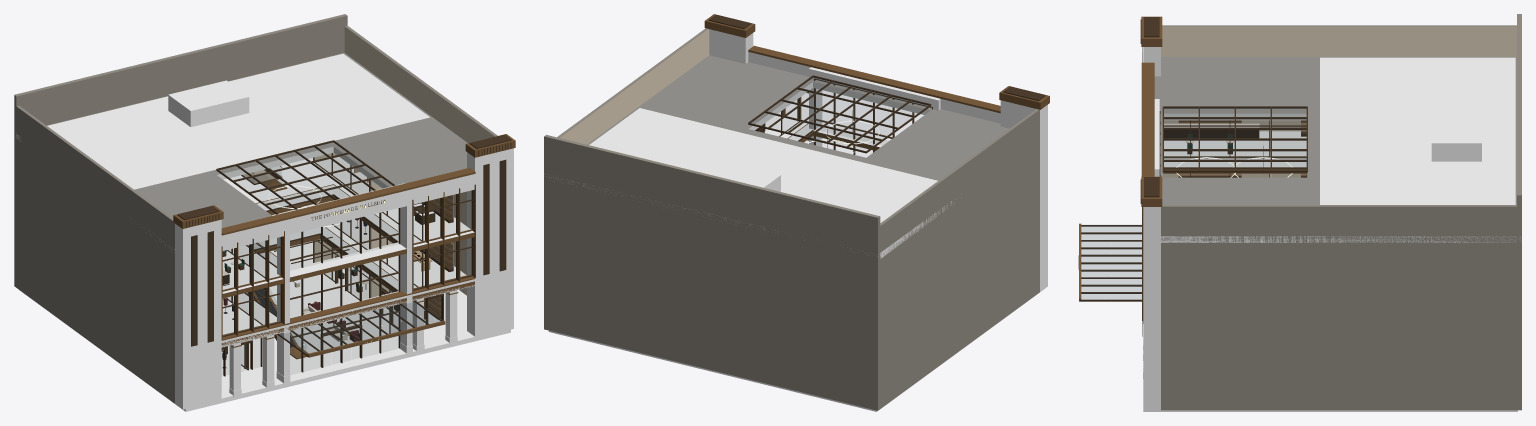
Rendered from the_promenade_galleria_lod1.glb.
The picture shows the model from 3 angles, left to right: view 1: azimuth 30°, elevation 25°; view 2: azimuth 150°, elevation 25°; view 3: azimuth 270°, elevation 25°; orthographic projection. The views are drawn at different scales.
Visible parts, largest first — view 1: B05_LOD1_BUILDING_EXTERIOR_Stone, B05_LOD1_BUILDING_EXTERIOR_Roof, B05_LOD1_BUILDING_EXTERIOR_RearInterface, B05_LOD1_BUILDING_INTERIOR_GroundSlab, B05_LOD1_BUILDING_INTERIOR_L2Slab, B05_LOD1_BUILDING_INTERIOR_L1Slab, B05_LOD1_FACADE_DETAILS_Bronze, B05_LOD1_FACADE_DETAILS_Canopy, B05_LOD1_GLASS_SYSTEM_TowerSlots, B05_LOD1_GLASS_SYSTEM_PortalFrame, B05_LOD1_GLASS_SYSTEM_Skylight, B05_LOD1_GLASS_SYSTEM_Upper-13Frame (+6 smaller); view 2: B05_LOD1_BUILDING_EXTERIOR_Stone, B05_LOD1_BUILDING_EXTERIOR_Roof, B05_LOD1_BUILDING_EXTERIOR_RearInterface, B05_LOD1_FACADE_DETAILS_Bronze, B05_LOD1_GLASS_SYSTEM_Skylight, B05_LOD1_BUILDING_INTERIOR_L2Slab, B05_LOD1_GLASS_SYSTEM_PortalFrame, B05_LOD1_BUILDING_INTERIOR_GroundSlab; view 3: B05_LOD1_BUILDING_EXTERIOR_Stone, B05_LOD1_BUILDING_EXTERIOR_Roof, B05_LOD1_FACADE_DETAILS_Canopy, B05_LOD1_BUILDING_INTERIOR_L2Slab, B05_LOD1_GLASS_SYSTEM_Skylight, B05_LOD1_FACADE_DETAILS_Bronze, B05_LOD1_FURNITURE_Shops, B05_LOD1_BUILDING_EXTERIOR_RearInterface, B05_LOD1_BUILDING_INTERIOR_GroundSlab, B05_LOD1_DISPLAY_OBJECTS_Merch, B05_LOD1_BUILDING_INTERIOR_ShopFront2-10Frame, B05_LOD1_BUILDING_INTERIOR_VoidRail2Frame.
Part boxes in pixels (bbox=[...]): B05_LOD1_BUILDING_EXTERIOR_Stone: bbox=[14, 25, 513, 409]; B05_LOD1_BUILDING_EXTERIOR_Roof: bbox=[16, 53, 513, 260]; B05_LOD1_BUILDING_EXTERIOR_RearInterface: bbox=[14, 14, 347, 286]; B05_LOD1_BUILDING_INTERIOR_GroundSlab: bbox=[19, 241, 510, 411]; B05_LOD1_BUILDING_INTERIOR_L2Slab: bbox=[222, 157, 474, 298]; B05_LOD1_BUILDING_INTERIOR_L1Slab: bbox=[221, 205, 474, 347]; B05_LOD1_FACADE_DETAILS_Bronze: bbox=[173, 134, 515, 340]; B05_LOD1_FACADE_DETAILS_Canopy: bbox=[277, 300, 445, 357]; B05_LOD1_GLASS_SYSTEM_TowerSlots: bbox=[191, 159, 506, 346]; B05_LOD1_GLASS_SYSTEM_PortalFrame: bbox=[290, 208, 400, 372]; B05_LOD1_GLASS_SYSTEM_Skylight: bbox=[216, 140, 395, 214]; B05_LOD1_GLASS_SYSTEM_Upper-13Frame: bbox=[221, 231, 284, 339]; B05_LOD1_BUILDING_EXTERIOR_Stone: bbox=[544, 28, 1047, 410]; B05_LOD1_BUILDING_EXTERIOR_Roof: bbox=[544, 55, 1047, 258]; B05_LOD1_BUILDING_EXTERIOR_RearInterface: bbox=[544, 135, 880, 409]; B05_LOD1_FACADE_DETAILS_Bronze: bbox=[704, 14, 1049, 113]; B05_LOD1_GLASS_SYSTEM_Skylight: bbox=[748, 75, 931, 153]; B05_LOD1_BUILDING_INTERIOR_L2Slab: bbox=[764, 113, 888, 150]; B05_LOD1_GLASS_SYSTEM_PortalFrame: bbox=[814, 78, 932, 154]; B05_LOD1_BUILDING_INTERIOR_GroundSlab: bbox=[548, 289, 1043, 411]; B05_LOD1_BUILDING_EXTERIOR_Stone: bbox=[1143, 25, 1521, 410]; B05_LOD1_BUILDING_EXTERIOR_Roof: bbox=[1143, 56, 1521, 242]; B05_LOD1_FACADE_DETAILS_Canopy: bbox=[1079, 223, 1141, 301]; B05_LOD1_BUILDING_INTERIOR_L2Slab: bbox=[1163, 131, 1306, 173]; B05_LOD1_GLASS_SYSTEM_Skylight: bbox=[1162, 106, 1307, 172]; B05_LOD1_FACADE_DETAILS_Bronze: bbox=[1140, 16, 1162, 321]; B05_LOD1_FURNITURE_Shops: bbox=[1164, 123, 1259, 154]; B05_LOD1_BUILDING_EXTERIOR_RearInterface: bbox=[1517, 14, 1521, 296]; B05_LOD1_BUILDING_INTERIOR_GroundSlab: bbox=[1143, 410, 1517, 411]; B05_LOD1_DISPLAY_OBJECTS_Merch: bbox=[1178, 120, 1306, 177]; B05_LOD1_BUILDING_INTERIOR_ShopFront2-10Frame: bbox=[1164, 120, 1269, 158]; B05_LOD1_BUILDING_INTERIOR_VoidRail2Frame: bbox=[1164, 156, 1307, 177].
Bounding box in the file's own units: 34.2 × 19.08 × 35.16.
